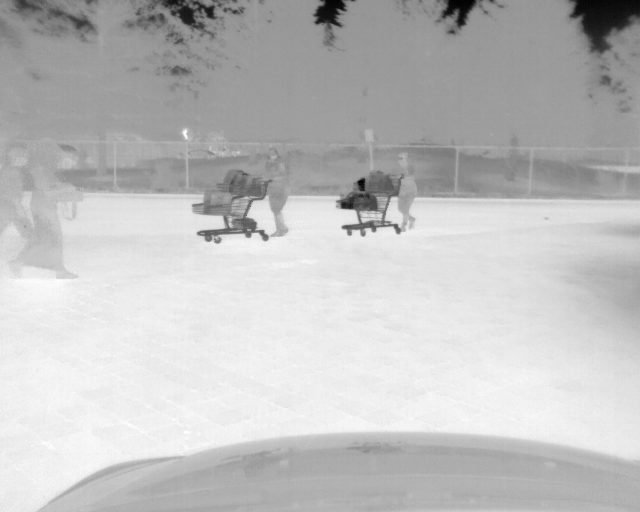people: (10, 136, 81, 280), (1, 147, 33, 246), (261, 147, 291, 237), (392, 149, 418, 233)
